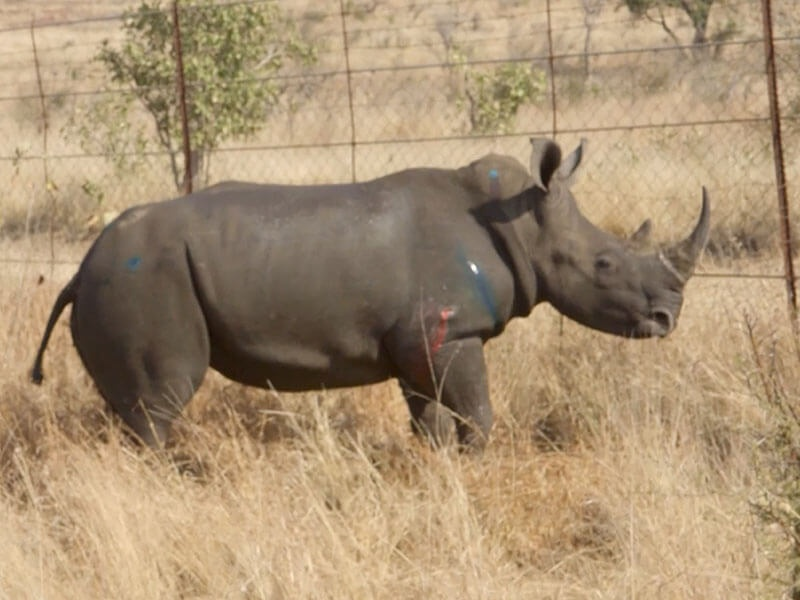rhino: (31, 128, 714, 449)
